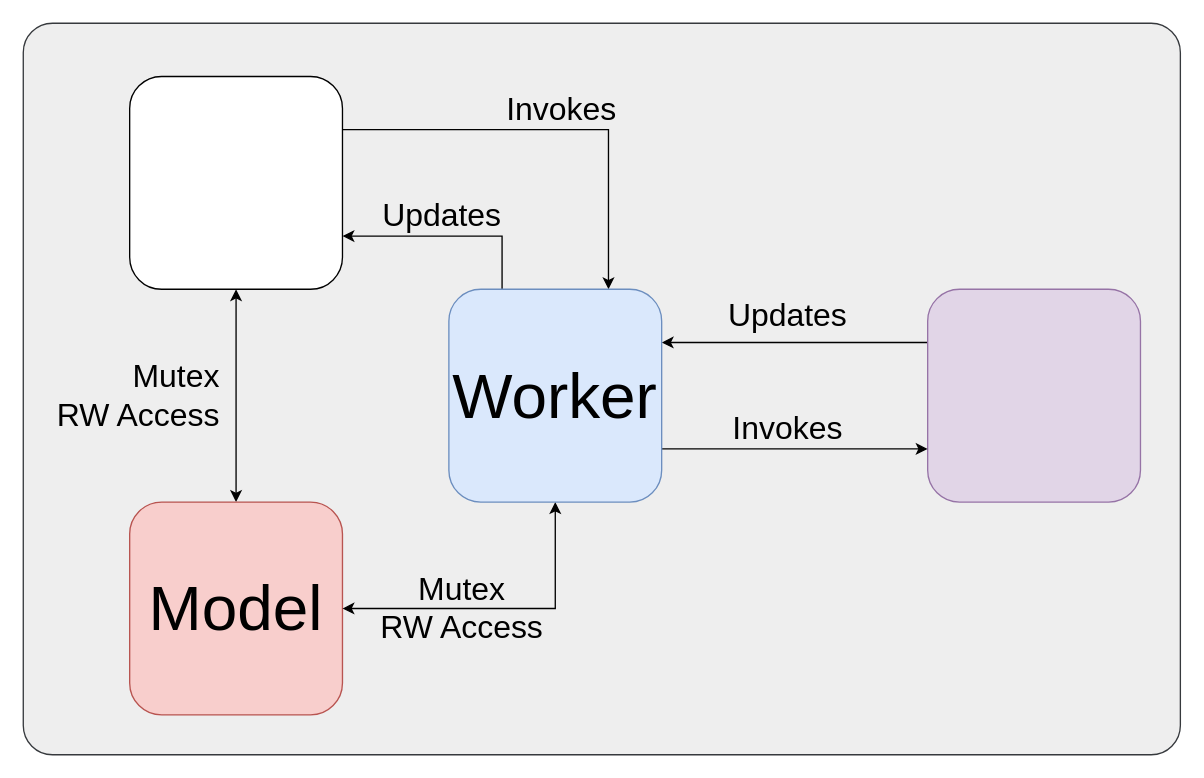
Image size: 1204x778. Some labels were removed from this diagram. The centre of each missing label's shape, as x and y in pixels:
Logic: the point at 1033,395
View: the point at 235,182
